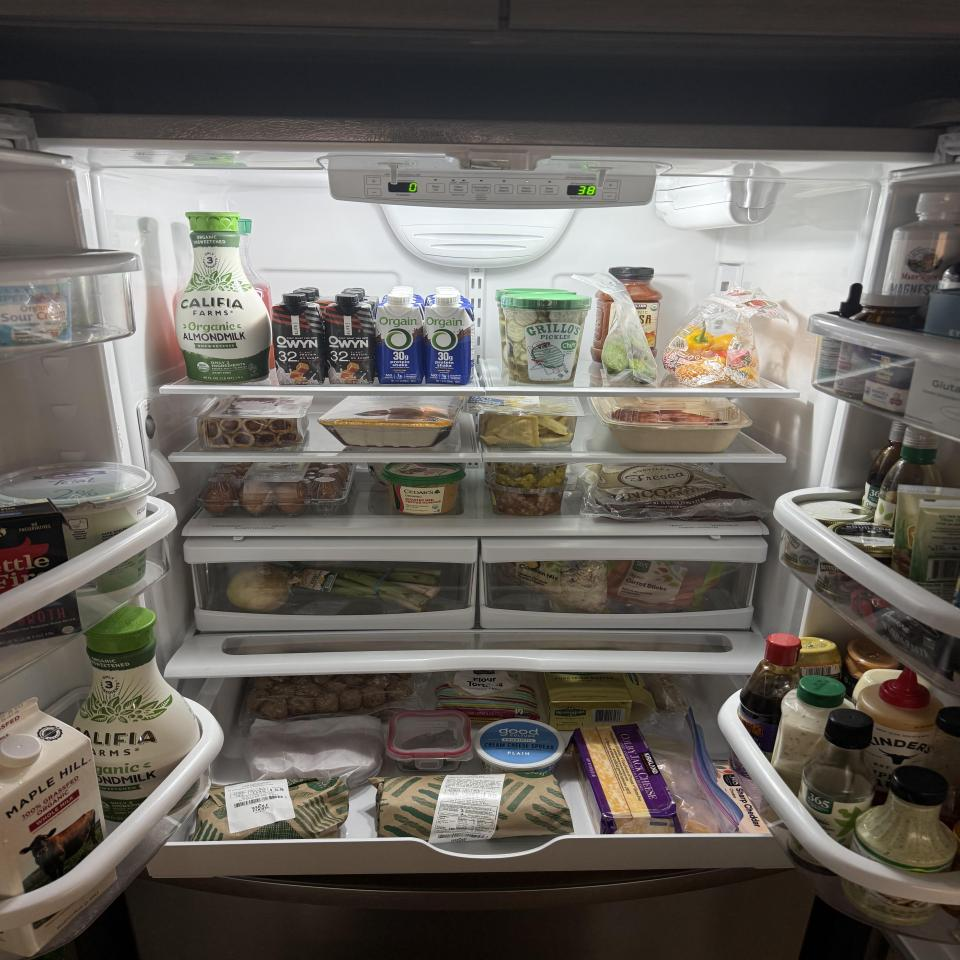Huevos: (196, 462, 357, 518)
Leche: (0, 695, 118, 959), (72, 606, 200, 822), (175, 212, 269, 381)
Mantequilla: (542, 672, 657, 731)
Queso: (570, 723, 676, 836), (710, 762, 772, 834)
Yogur: (0, 461, 157, 597), (0, 278, 74, 351)
Zanahoria: (607, 560, 722, 611)
